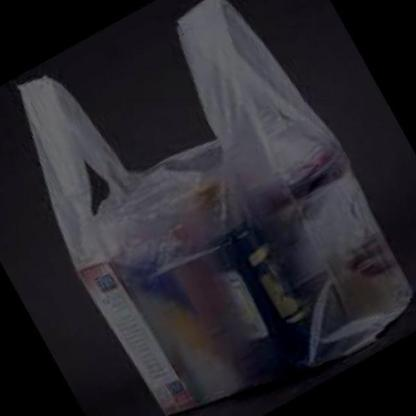Plastic Bag: (13, 0, 414, 416)
